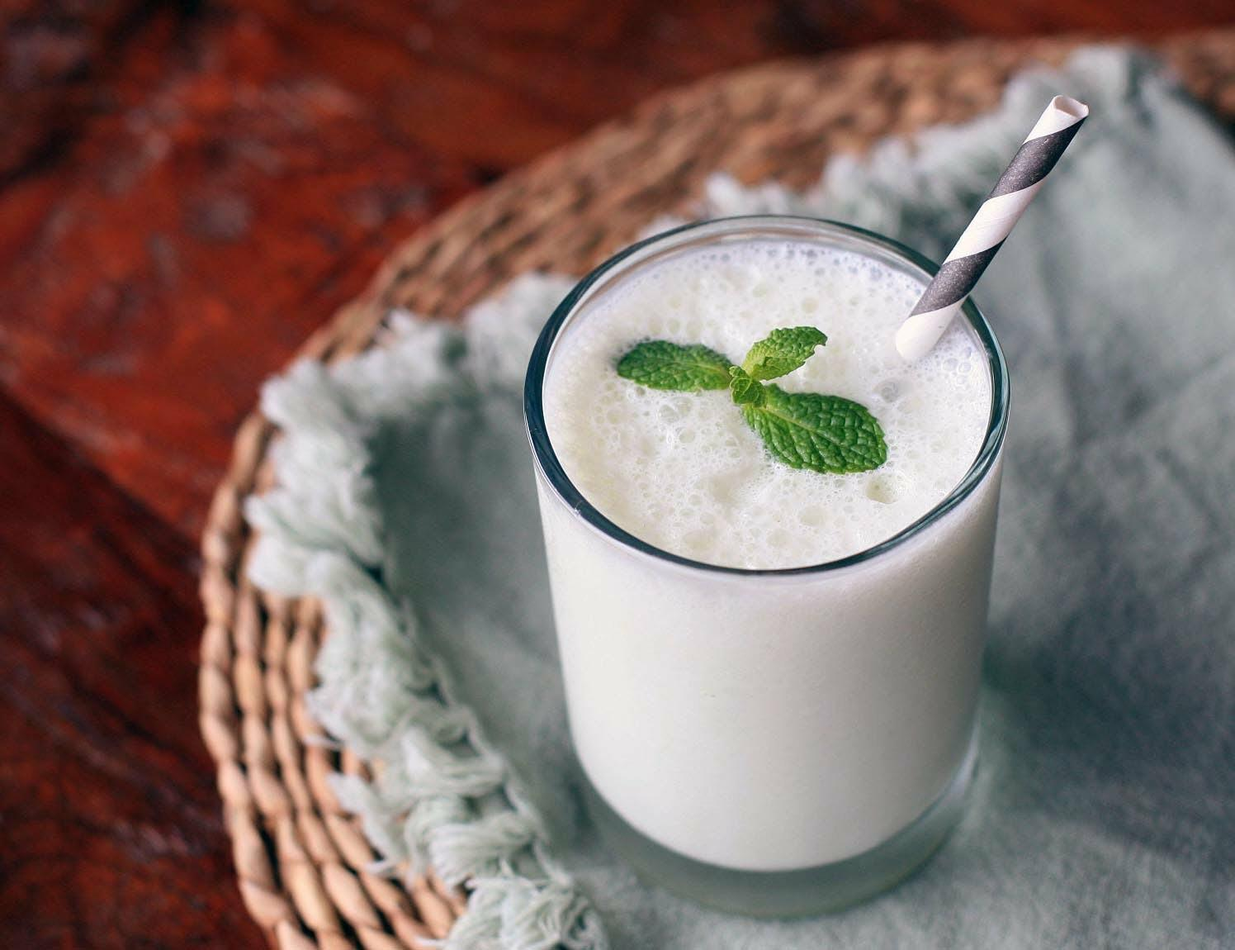Lassi: (536, 239, 1002, 868)
